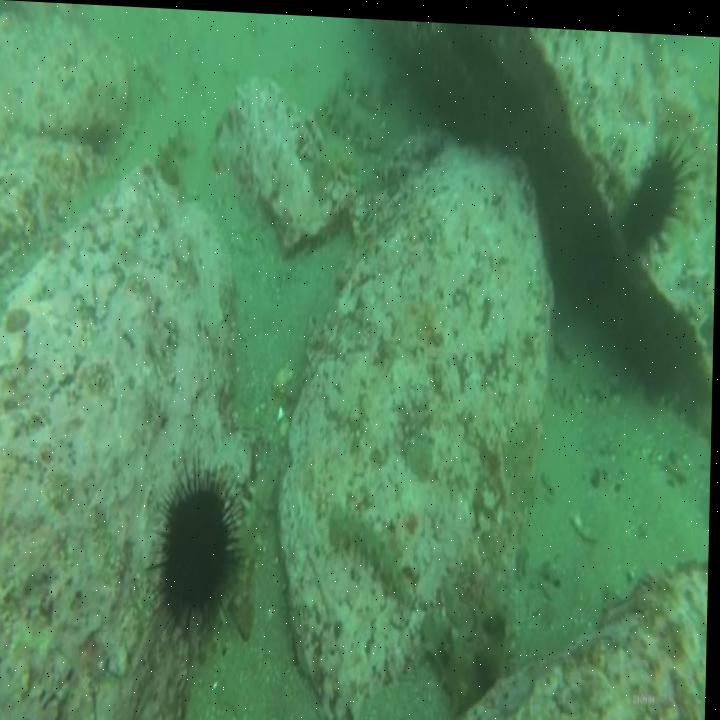echinus: (150, 437, 253, 652), (623, 111, 702, 256)
holothurian: (328, 495, 415, 604), (419, 594, 486, 710), (325, 83, 384, 149), (312, 121, 361, 196), (155, 115, 193, 191), (343, 59, 402, 104)
